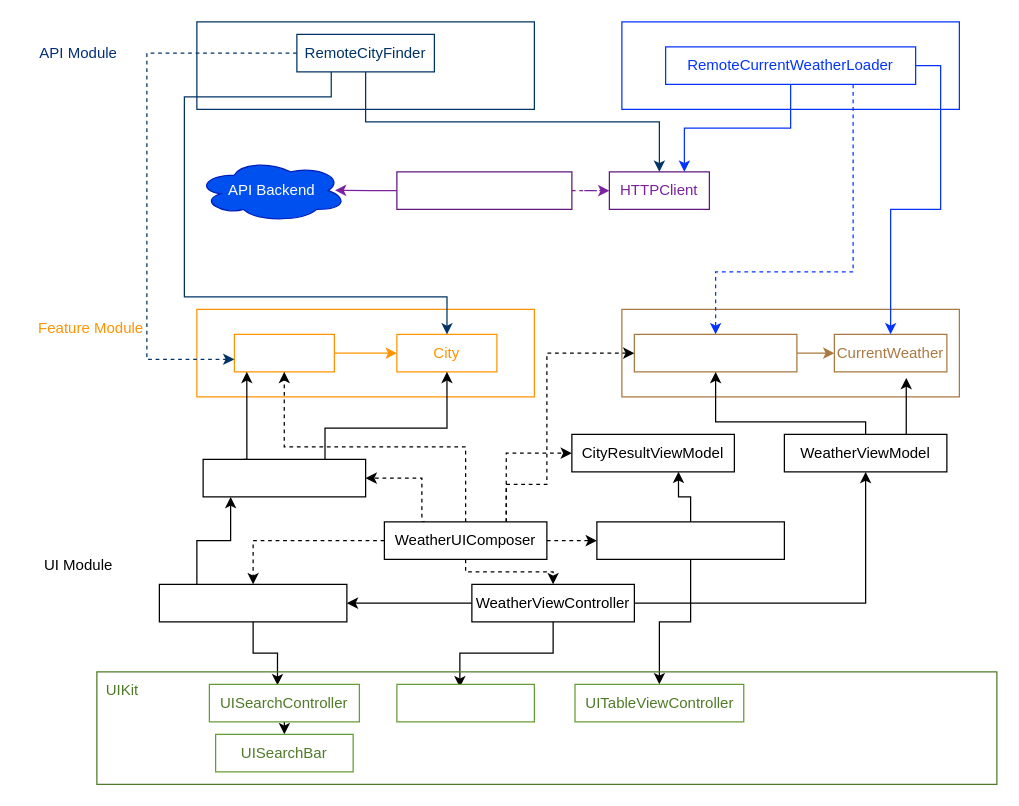
This 1019x806 diagram has some shape labels left out. Each missing label, with the box of its shape:
CityFinder: (233, 333, 334, 372)
CityResultViewController: (596, 521, 784, 559)
CitySearchViewController: (158, 583, 347, 622)
CitySearchViewModel: (202, 458, 366, 497)
CurrentWeatherLoader: (633, 333, 797, 372)
MKMapView: (396, 683, 534, 722)
URLSessionHTTPClient: (396, 171, 572, 209)
